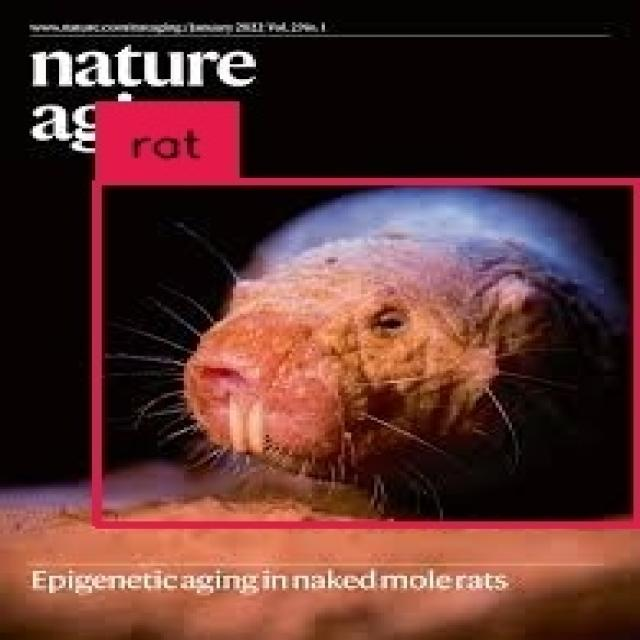rat: (95, 183, 640, 524)
